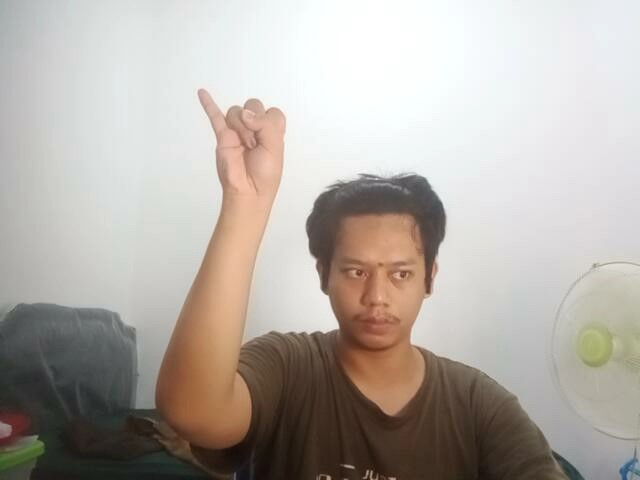I: (185, 81, 303, 200)
